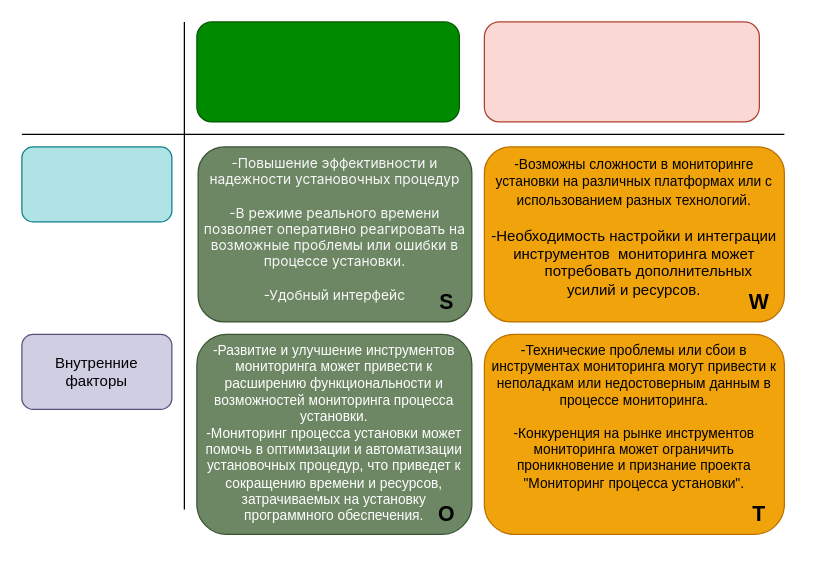
Image size: 819x563. Some labels were removed from this diagram. The centre of each missing label's shape, as x and y in pixels:
Внешние факторы: the point at 96,184
Отрицательные стороны: the point at 621,71
Положительные стороны: the point at 327,71
